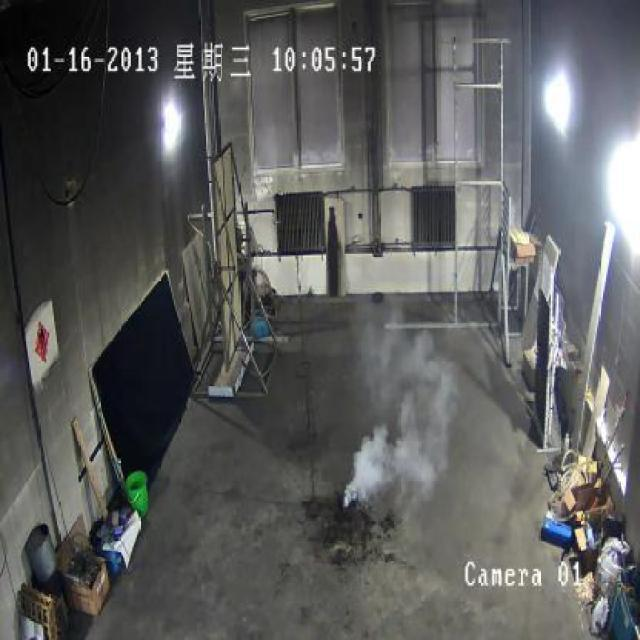fire: (342, 300, 456, 518)
